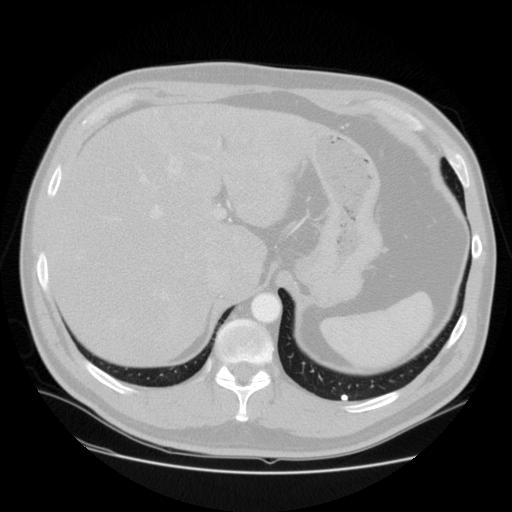nodule: (338, 392, 350, 404)
